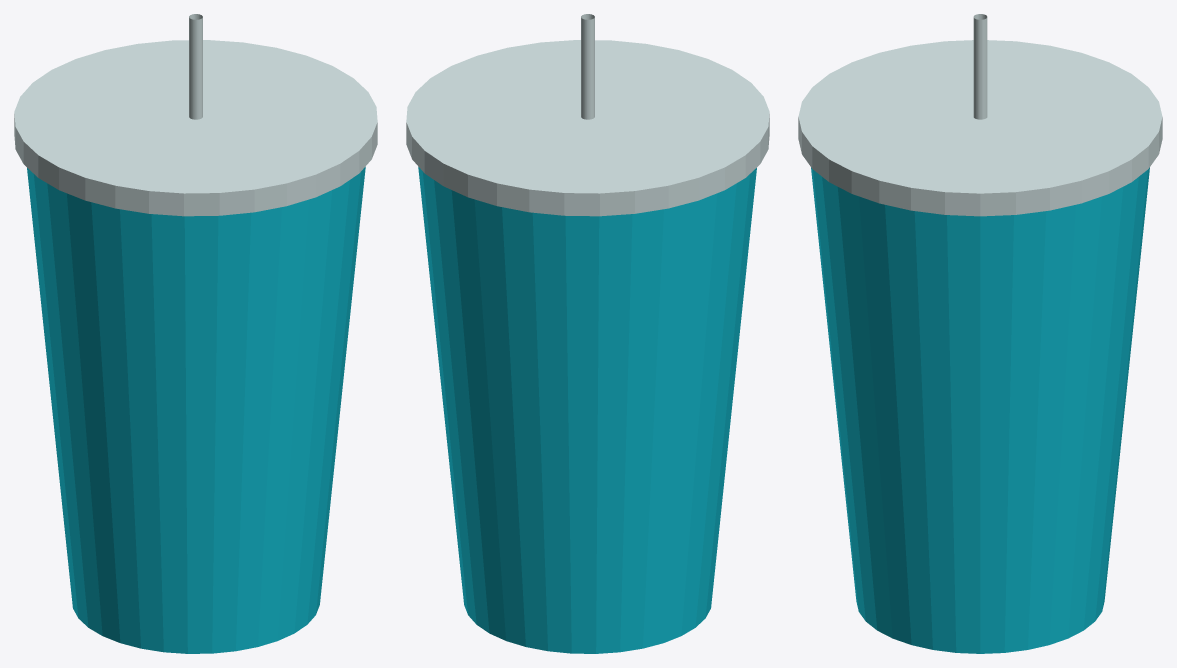
Rendered from SodaGrande.glb.
3 renders of one model, left to right at view 1: azimuth 30°, elevation 25°; view 2: azimuth 150°, elevation 25°; view 3: azimuth 270°, elevation 25°, orthographic.
Visible parts, largest first — view 1: Cylinder, Cylinder.001, Cylinder.002; view 2: Cylinder, Cylinder.001, Cylinder.002; view 3: Cylinder, Cylinder.001, Cylinder.002.
Part boxes in pixels (x1,y1,x2,y2): Cylinder: [27, 167, 365, 653]; Cylinder.001: [14, 40, 377, 216]; Cylinder.002: [189, 14, 202, 119]; Cylinder: [418, 167, 756, 653]; Cylinder.001: [406, 40, 769, 216]; Cylinder.002: [581, 14, 594, 119]; Cylinder: [811, 167, 1149, 653]; Cylinder.001: [798, 40, 1162, 216]; Cylinder.002: [973, 14, 987, 119].
Bounding box in the file's own units: 2.1 × 3.72 × 2.1.
